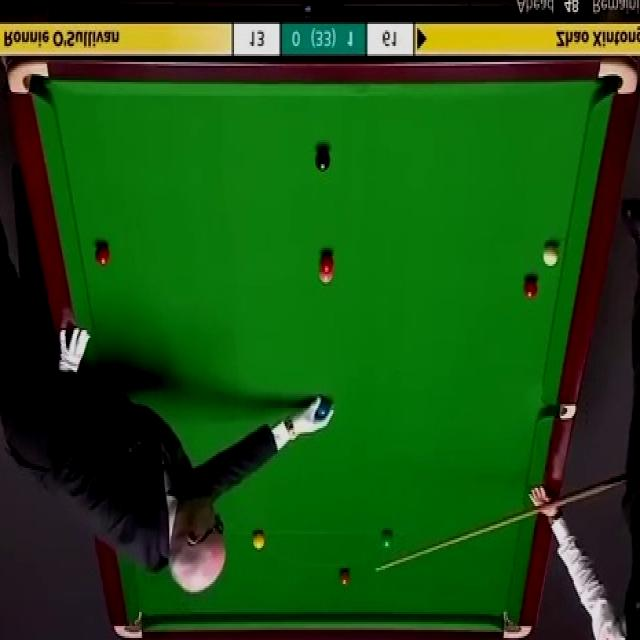black-ball: (314, 150, 332, 172)
blue-ball: (316, 398, 330, 418)
brown-ball: (338, 566, 352, 587)
green-ball: (380, 530, 393, 551)
pink-ball: (318, 270, 333, 284)
red-ball: (523, 274, 539, 300), (94, 242, 109, 266), (319, 254, 334, 272)
white-ball: (544, 240, 560, 267)
yellow-ball: (251, 530, 265, 551)
